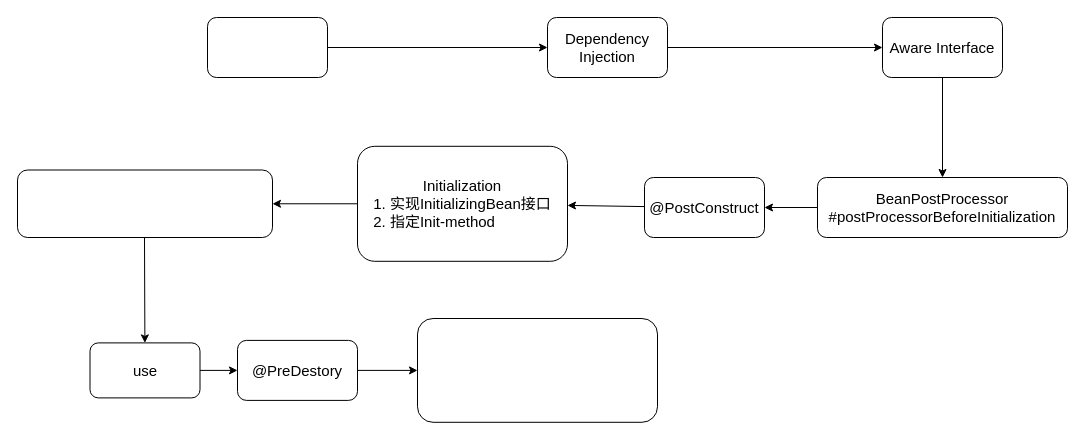
The diagram is 1085 pixels wide and 440 high, and some of its shapes have lost their labels. Here are the shapes that lost their labels. From the top down, the centre of each, then its label:
At point 267,47: "Constructor".
At point 144,203: "BeanPostProcessor #postProcessorAfterInitialization".
At point 537,370: "Destory 1. 实现DisposableBean接口 2. 指定destory-method".
